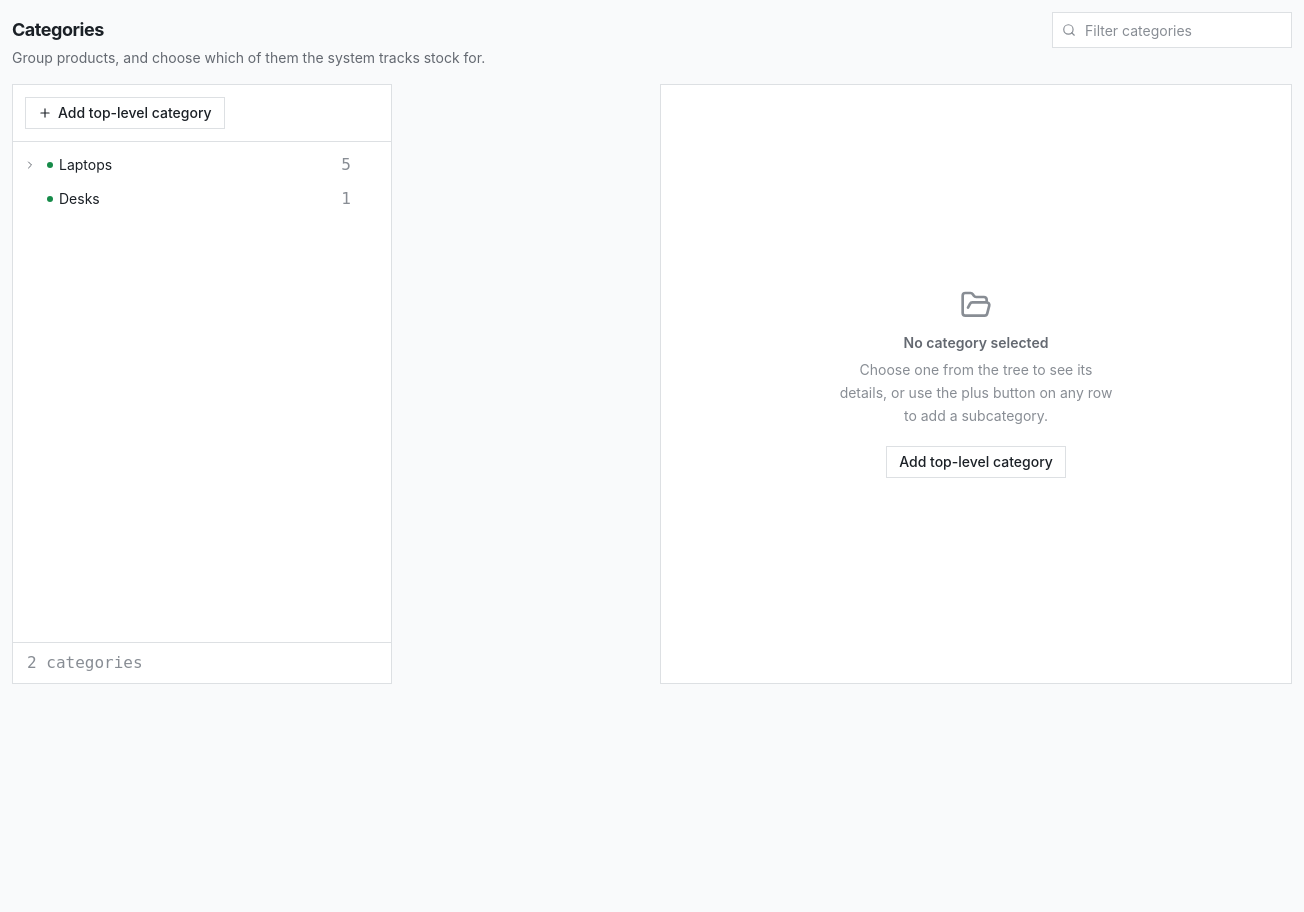
Test: CategoriesPage › adding › refuses a duplicate name among the same siblings
Click the 1st button "Add top-level category". click: coordinates (125, 112)
box: [25,96,225,128]
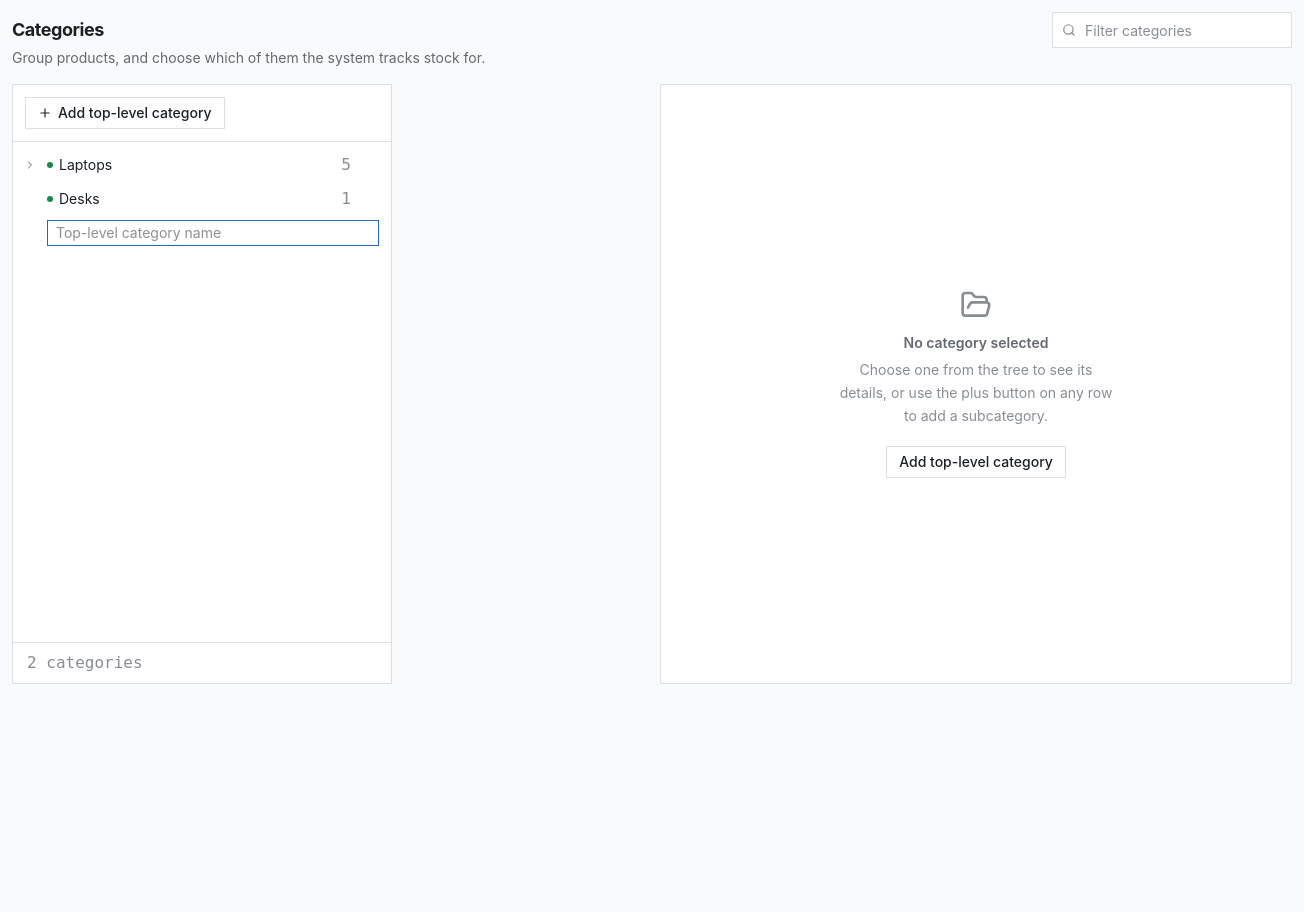
Type "Desks" into the field labelled "Top-level category name". click: coordinates (213, 232)
box: [47,220,379,246]
Then press Enter
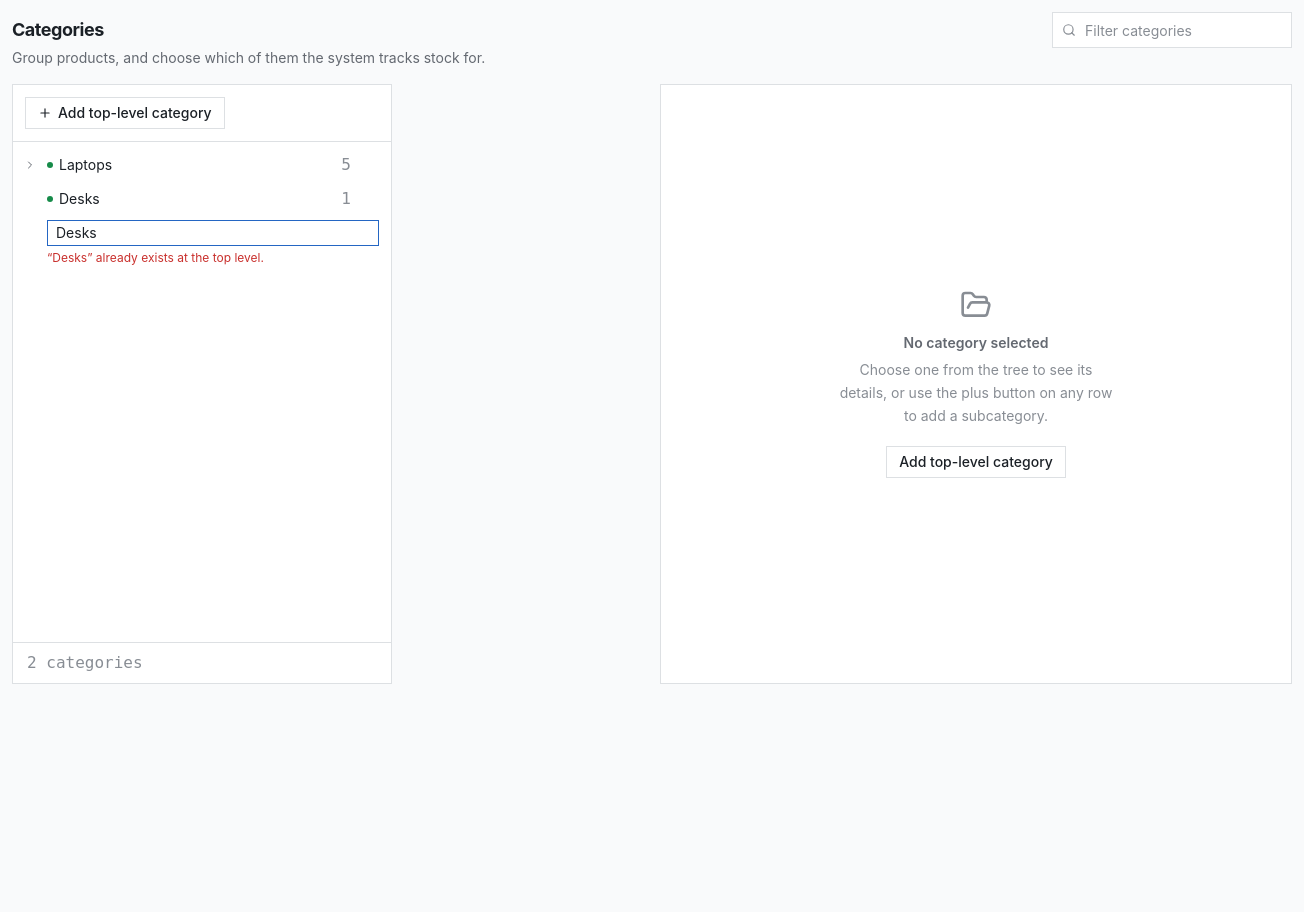
Now the message shows "already exists at the top level", box [47,250,264,264]
